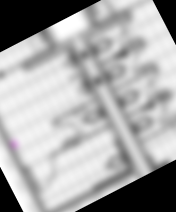door: (24, 153, 66, 195), (51, 114, 85, 147), (125, 44, 158, 76), (112, 17, 144, 49), (138, 71, 171, 102), (152, 95, 176, 128)
